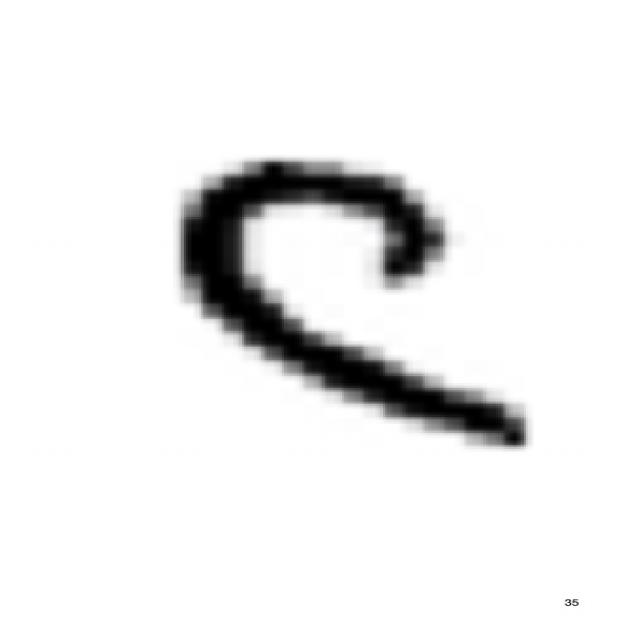2 -two-: (153, 137, 551, 465)
